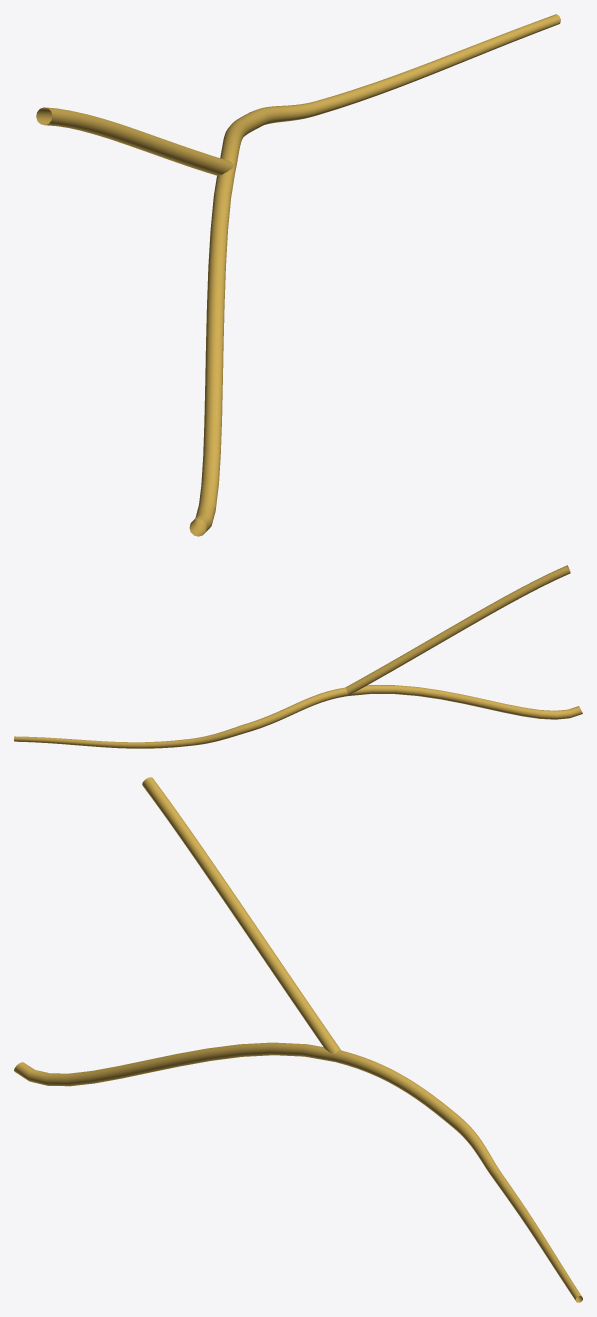
3 renders of one model, top to bottom at view 1: azimuth 30°, elevation 25°; view 2: azimuth 150°, elevation 25°; view 3: azimuth 270°, elevation 25°, orthographic. The views are drawn at different scales.
Parts seen in each view (by area): view 1: 左侧梨状肌神经; view 2: 左侧梨状肌神经; view 3: 左侧梨状肌神经.
Part boxes in pixels (x1,y1,x2,y2): 左侧梨状肌神经: (36, 14, 560, 536); 左侧梨状肌神经: (14, 565, 582, 748); 左侧梨状肌神经: (14, 777, 582, 1302).
Size of the model in its own units: 0.0775 by 0.0346 by 0.0646.
